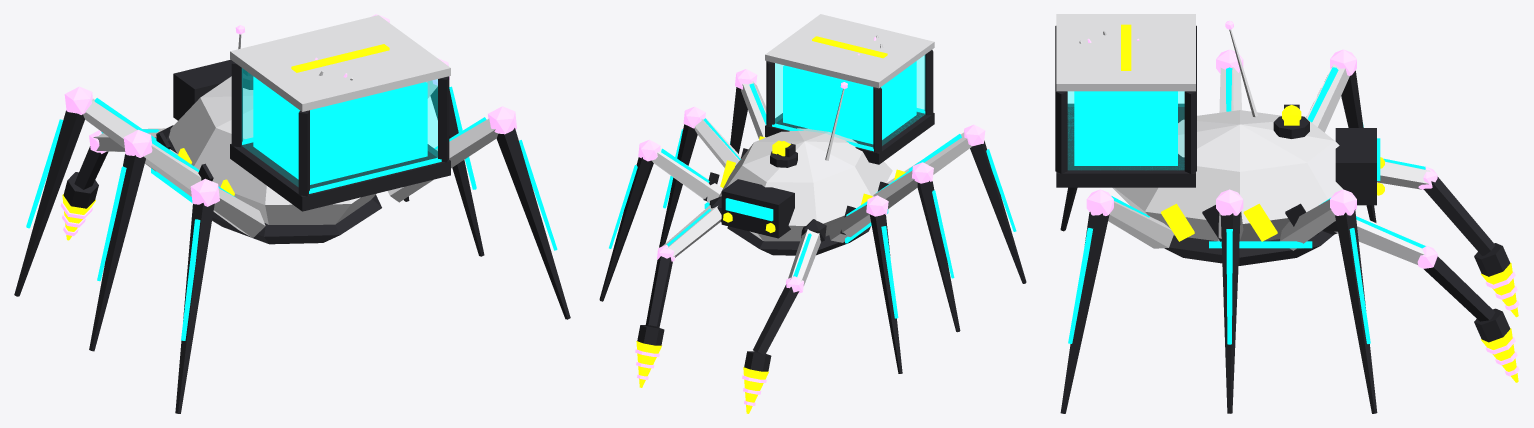
Rendered from DataHarvester.fbx.
3 renders of one model, left to right at view 1: azimuth 30°, elevation 25°; view 2: azimuth 150°, elevation 25°; view 3: azimuth 270°, elevation 25°, orthographic. The views are drawn at different scales.
Parts seen in each view (by area): view 1: Harv_CargoGlass, Harvester_CargoFill, Harv_Hatch, Harv_Hull, Harv_CargoBase, Harv_LegL2_Lower, Harv_LegR0_Lower, Harv_LegR1_Lower, Harv_LegR2_Lower, Harv_LowerHull, Harv_Cockpit, Harv_LegL2_Upper (+19 smaller); view 2: Harv_Hull, Harv_CargoGlass, Harvester_CargoFill, Harv_Hatch, Harv_Cockpit, Harv_CargoBase, Harv_LegL0_Lower, Harv_LegR1_Lower, Harv_LegR2_Lower, Harv_LegR0_Lower, Harv_LegL0_Upper, Harv_LowerHull (+21 smaller); view 3: Harv_Hull, Harv_Hatch, Harv_CargoGlass, Harvester_CargoFill, Harv_CargoBase, Harv_Cockpit, Harv_LegL0_Lower, Harv_LegL2_Lower, Harv_LowerHull, Harv_LegL1_Lower, Harv_ArmLowerR, Harv_LegL2_Upper (+26 smaller).
Part boxes in pixels (x1=…): Harv_CargoGlass: x1=242, y1=68, x2=437, y2=188; Harvester_CargoFill: x1=253, y1=76, x2=427, y2=184; Harv_Hatch: x1=230, y1=15, x2=450, y2=111; Harv_Hull: x1=169, y1=76, x2=376, y2=224; Harv_CargoBase: x1=230, y1=142, x2=450, y2=211; Harv_LegL2_Lower: x1=496, y1=128, x2=570, y2=319; Harv_LegR0_Lower: x1=14, y1=110, x2=84, y2=296; Harv_LegR1_Lower: x1=89, y1=154, x2=145, y2=351; Harv_LegR2_Lower: x1=175, y1=203, x2=214, y2=413; Harv_LowerHull: x1=212, y1=195, x2=381, y2=244; Harv_Cockpit: x1=173, y1=59, x2=232, y2=120; Harv_LegL2_Upper: x1=387, y1=118, x2=497, y2=202; Harv_Hull: x1=719, y1=128, x2=892, y2=241; Harv_CargoGlass: x1=775, y1=55, x2=925, y2=146; Harvester_CargoFill: x1=783, y1=61, x2=916, y2=144; Harv_Hatch: x1=765, y1=14, x2=934, y2=88; Harv_Cockpit: x1=721, y1=179, x2=794, y2=238; Harv_CargoBase: x1=765, y1=112, x2=934, y2=164; Harv_LegL0_Lower: x1=599, y1=157, x2=653, y2=301; Harv_LegR1_Lower: x1=917, y1=181, x2=960, y2=332; Harv_LegR2_Lower: x1=970, y1=140, x2=1026, y2=283; Harv_LegR0_Lower: x1=869, y1=214, x2=902, y2=373; Harv_LegL0_Upper: x1=651, y1=148, x2=722, y2=203; Harv_LowerHull: x1=727, y1=226, x2=870, y2=255; Harv_Hull: x1=1112, y1=110, x2=1343, y2=241; Harv_Hatch: x1=1056, y1=14, x2=1195, y2=91; Harv_CargoGlass: x1=1068, y1=91, x2=1184, y2=169; Harvester_CargoFill: x1=1074, y1=91, x2=1177, y2=165; Harv_CargoBase: x1=1056, y1=103, x2=1195, y2=187; Harv_Cockpit: x1=1335, y1=128, x2=1376, y2=205; Harv_LegL0_Lower: x1=1335, y1=209, x2=1377, y2=413; Harv_LegL2_Lower: x1=1060, y1=212, x2=1109, y2=413; Harv_LowerHull: x1=1164, y1=230, x2=1333, y2=265; Harv_LegL1_Lower: x1=1220, y1=212, x2=1240, y2=413; Harv_ArmLowerR: x1=1423, y1=177, x2=1495, y2=255; Harv_LegL2_Upper: x1=1108, y1=201, x2=1173, y2=248.
Bounding box in the file's own units: 0.8505 × 0.6554 × 0.8975.
